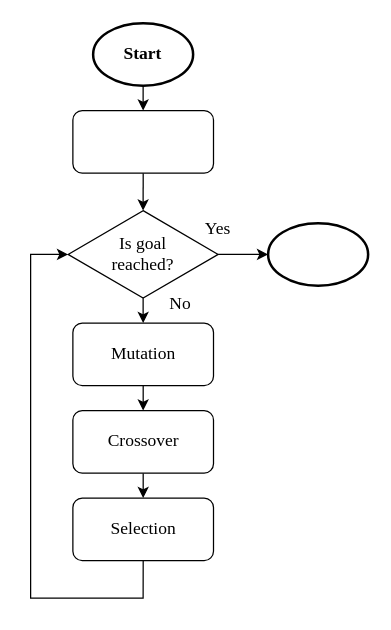
Some shapes in this 391 by 630 pixel diagram are drawn without their labels. The shapes that lost their labels are listed below. From the top down, each one's centre as x and y in pixels, then its label:
the point at 143,141: Create population
the point at 317,253: End
